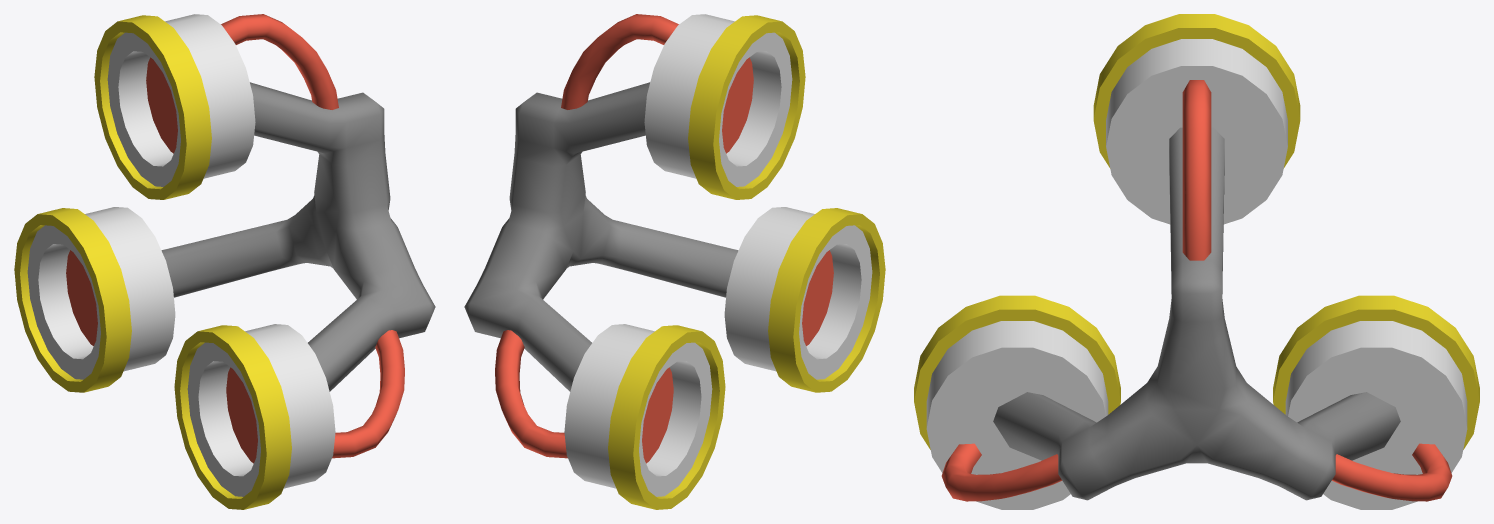
The model's file is rocket_6.fbx.
The picture shows the model from 3 angles, left to right: view 1: azimuth 30°, elevation 25°; view 2: azimuth 150°, elevation 25°; view 3: azimuth 270°, elevation 25°; orthographic projection. The views are drawn at different scales.
Visible parts, largest first — view 1: rocket_6; view 2: rocket_6; view 3: rocket_6.
Boxes of the visible parts, x1=… form: rocket_6: x1=14, y1=14, x2=435, y2=509; rocket_6: x1=464, y1=14, x2=885, y2=509; rocket_6: x1=914, y1=14, x2=1479, y2=509.
Bounding box in the file's own units: 91.23 × 153 × 168.
